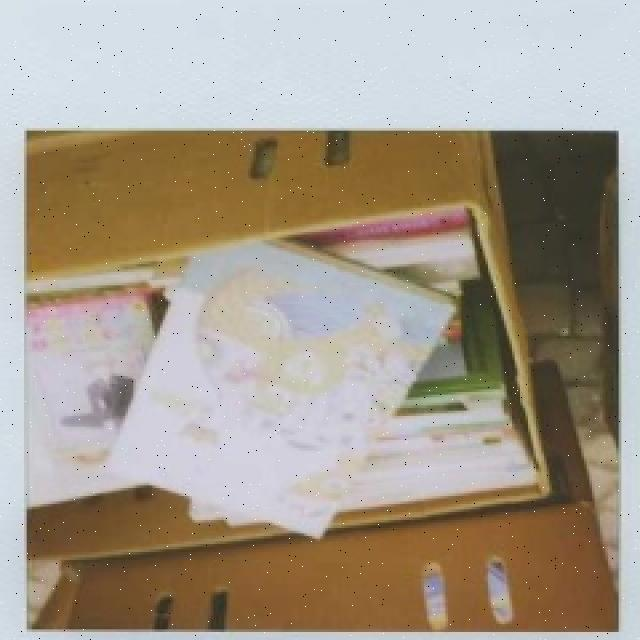box: (0, 136, 571, 571), (46, 512, 614, 640)
